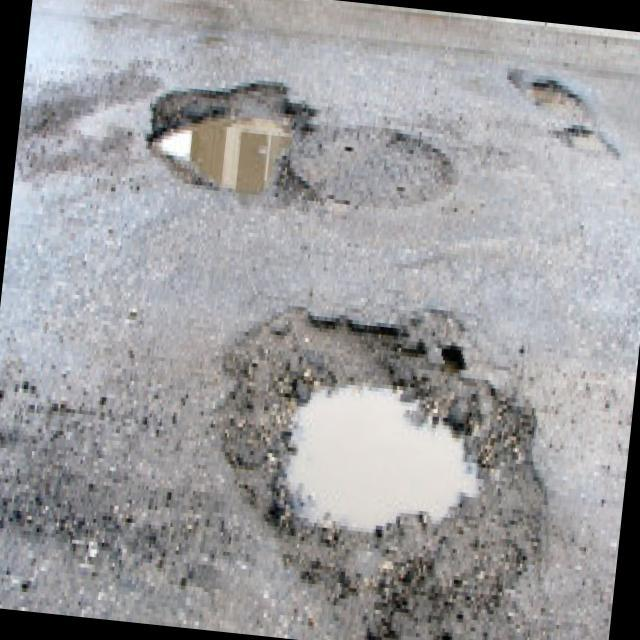Pothole: (222, 296, 557, 624), (140, 61, 332, 212), (507, 52, 593, 120), (554, 118, 619, 166)
